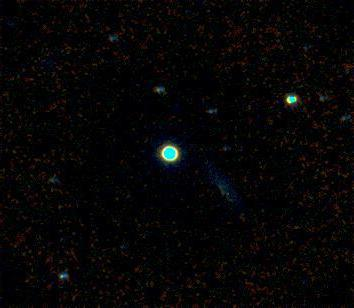star: (213, 177, 243, 207)
